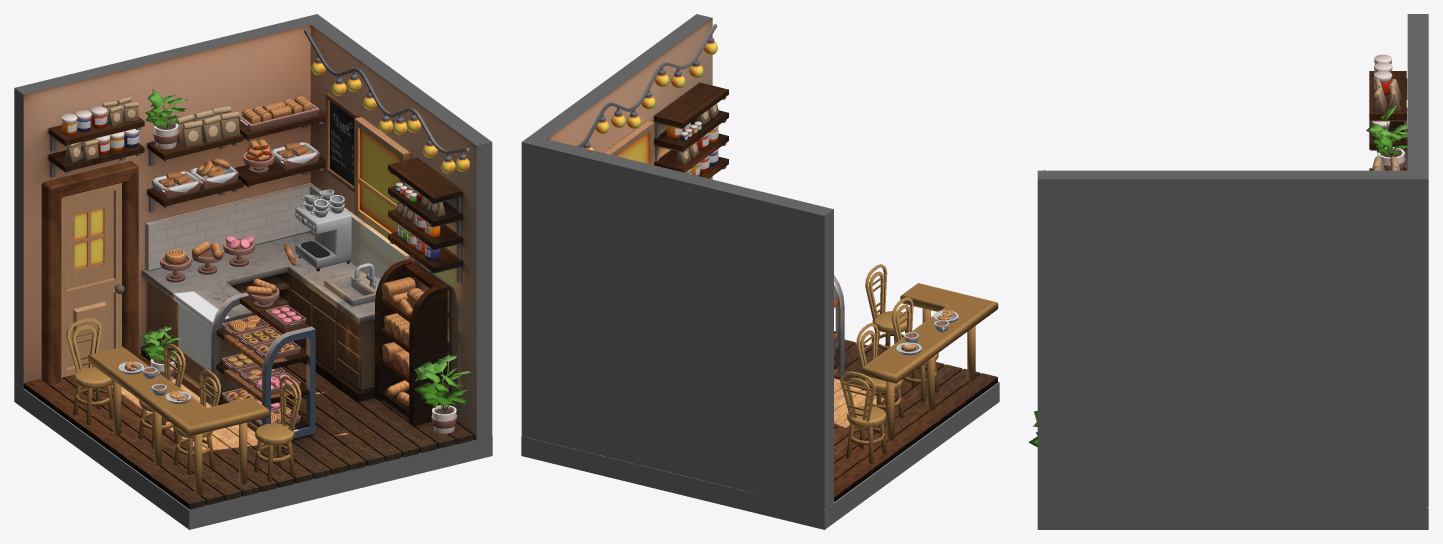
Rendered from cafe-teste.obj.
3 views of the same model, side by side, from view 1: azimuth 30°, elevation 25°; view 2: azimuth 150°, elevation 25°; view 3: azimuth 270°, elevation 25° (orthographic). The views are drawn at different scales.
Parts seen in each view (by area): view 1: Object_0; view 2: Object_0; view 3: Object_0.
Boxes of the visible parts, x1,y1,x2,y2 form: Object_0: [14, 14, 492, 529]; Object_0: [521, 14, 999, 529]; Object_0: [1028, 14, 1428, 529].
Bounding box in the file's own units: 2 × 1.98 × 2.05.
8 materials, 6 textured.
